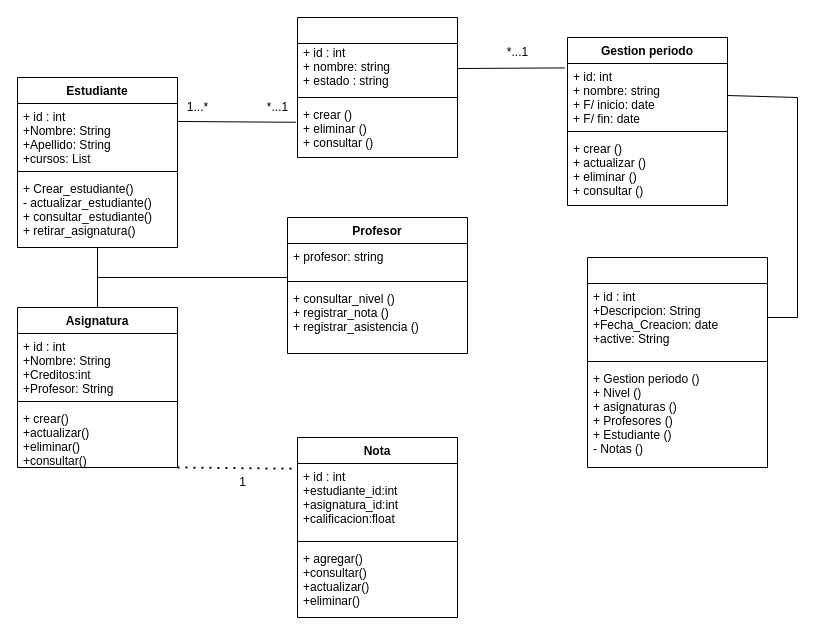
Image size: 816x638. Some labels were removed from this diagram. The shapes that lost their labels are listed below. From the top down, each one's box as (x1, y1, x2, y2) in pixels, then its label:
(296, 16, 458, 158): Nivel
(586, 256, 768, 468): Sistema Academico
